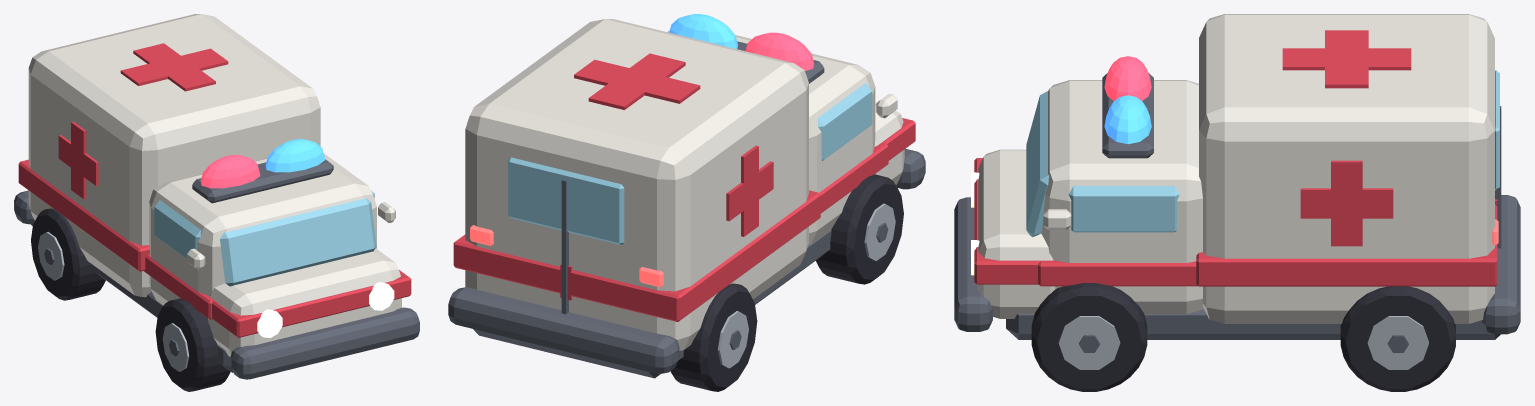
Rendered from veh_ambulance.glb.
3 views of the same model, side by side, from view 1: azimuth 30°, elevation 25°; view 2: azimuth 150°, elevation 25°; view 3: azimuth 270°, elevation 25° (orthographic). The views are drawn at different scales.
Parts seen in each view (by area): view 1: veh_ambulance, wheel_fl, wheel_rl, siren_r, siren_l; view 2: veh_ambulance, wheel_fl, wheel_rl, siren_l, siren_r; view 3: veh_ambulance, wheel_fr, wheel_rr, siren_r, siren_l.
Boxes of the visible parts, x1=… form: veh_ambulance: x1=14, y1=14, x2=419, y2=379; wheel_fl: x1=155, y1=298, x2=230, y2=391; wheel_rl: x1=31, y1=208, x2=105, y2=300; siren_r: x1=265, y1=139, x2=324, y2=172; siren_l: x1=200, y1=155, x2=260, y2=188; veh_ambulance: x1=448, y1=19, x2=925, y2=378; wheel_fl: x1=816, y1=174, x2=903, y2=284; wheel_rl: x1=670, y1=283, x2=757, y2=391; siren_l: x1=745, y1=32, x2=814, y2=70; siren_r: x1=669, y1=14, x2=737, y2=48; veh_ambulance: x1=954, y1=14, x2=1520, y2=339; wheel_fr: x1=1031, y1=283, x2=1147, y2=391; wheel_rr: x1=1340, y1=286, x2=1455, y2=391; siren_r: x1=1104, y1=95, x2=1151, y2=144; siren_l: x1=1104, y1=56, x2=1151, y2=100.
Bounding box in the file's own units: 2.34 × 2.36 × 4.4.
